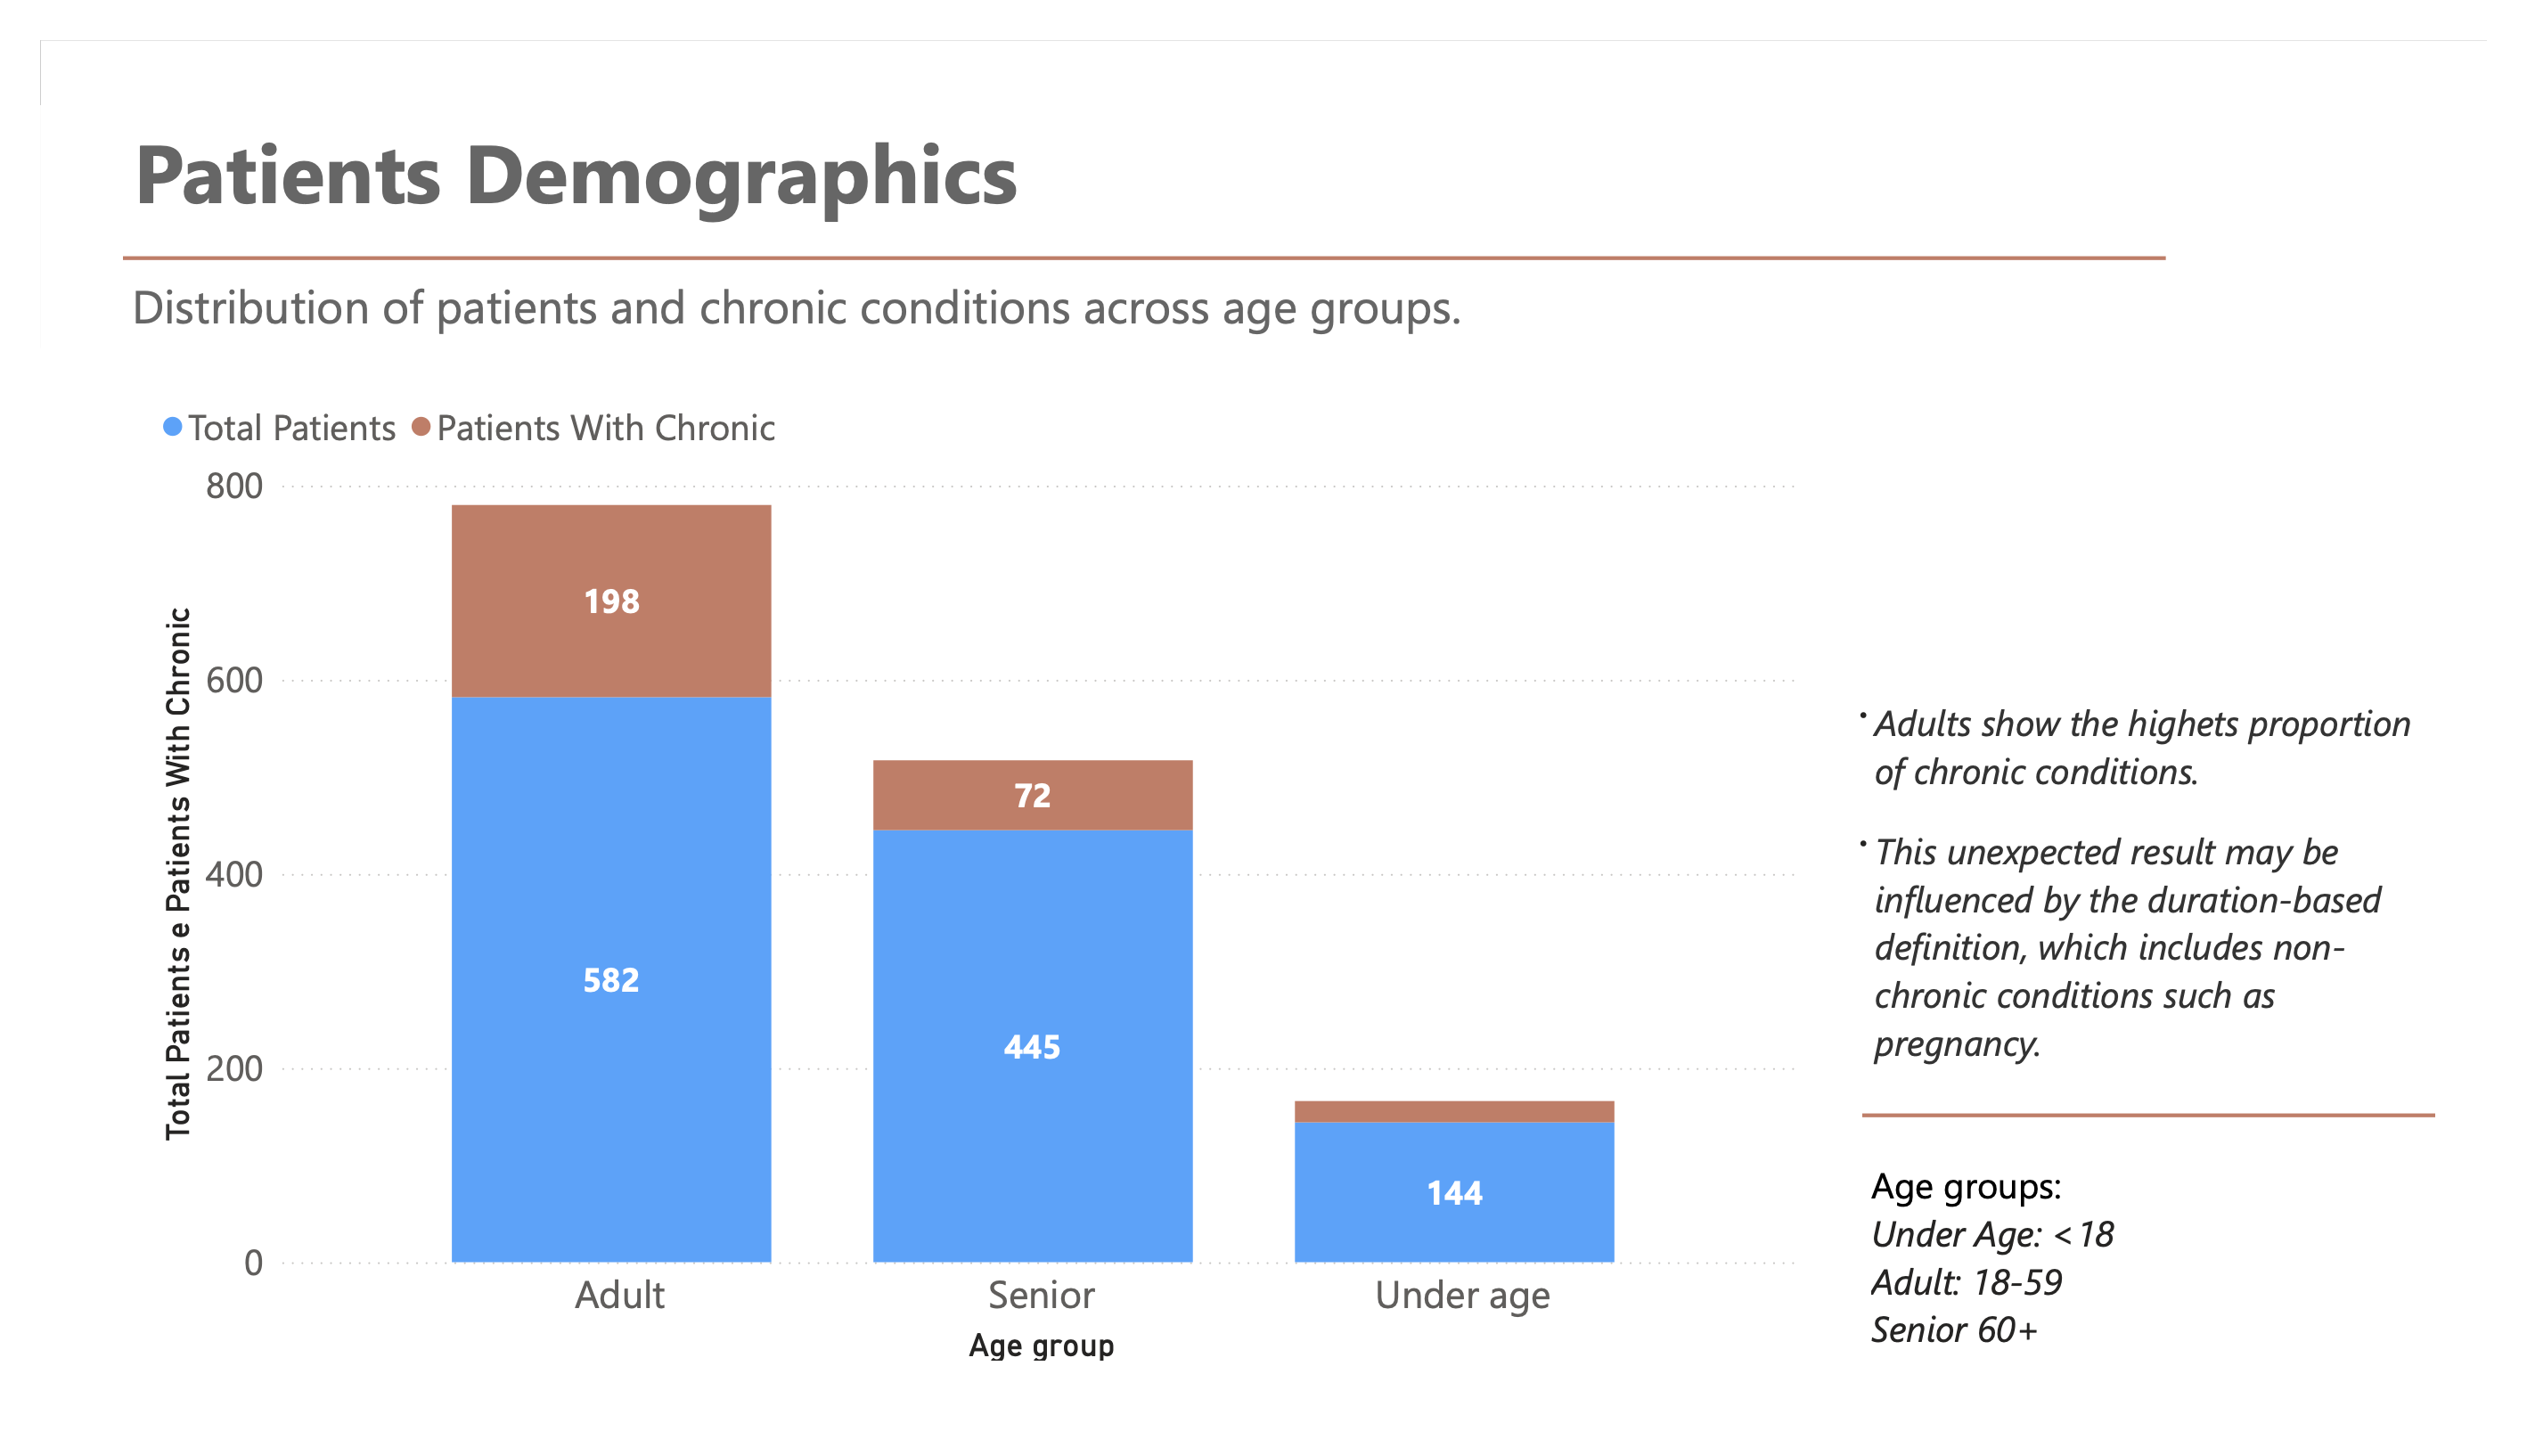

Layout of this report page (visuals, bound fields, positions):
{"tool":"powerbi","page":{"name":"Patients Demographics","canvas":[1280,720],"ordinal":3},"visuals":[{"type":"columnChart","fields":{"Category":["chronic_by_age.age_group"],"Y":["Sum(chronic_by_age.total_patients)","Sum(chronic_by_age.patients_with_chronic)"]},"box":[57.1,178.6,868.6,517.1],"z":0},{"type":"textbox","box":[952.9,581.4,158.6,114.3],"z":1000},{"type":"textbox","box":[937.1,338.6,315.7,202.9],"z":2000},{"type":"textbox","box":[44.1,33.9,508.5,72.9],"z":3000},{"type":"textbox","box":[43.3,116.7,943.3,58.3],"z":4000},{"type":"shape","box":[43.3,98.3,1068.3,31.7],"z":5000},{"type":"shape","box":[952.9,555.7,300,12.9],"z":6000}]}

Visuals, with their boxes in screenshot pixels (x1, y1, x2, y2), scaled from the page's 1280x720 canvas onto the 2527x1456 screenshot:
columnChart - chronic_by_age.age_group x Sum(chronic_by_age.total_patients): locate(113, 361, 1828, 1407)
textbox: locate(1881, 1175, 2195, 1407)
textbox: locate(1850, 684, 2474, 1095)
textbox: locate(87, 69, 1091, 216)
textbox: locate(86, 236, 1948, 354)
shape: locate(86, 199, 2195, 263)
shape: locate(1881, 1124, 2474, 1149)
